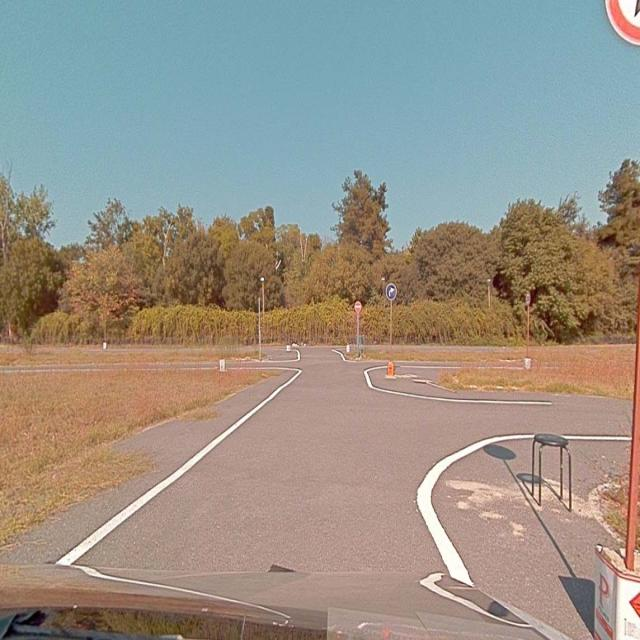girisyok: (355, 301, 361, 312)
sag: (386, 284, 396, 300)
